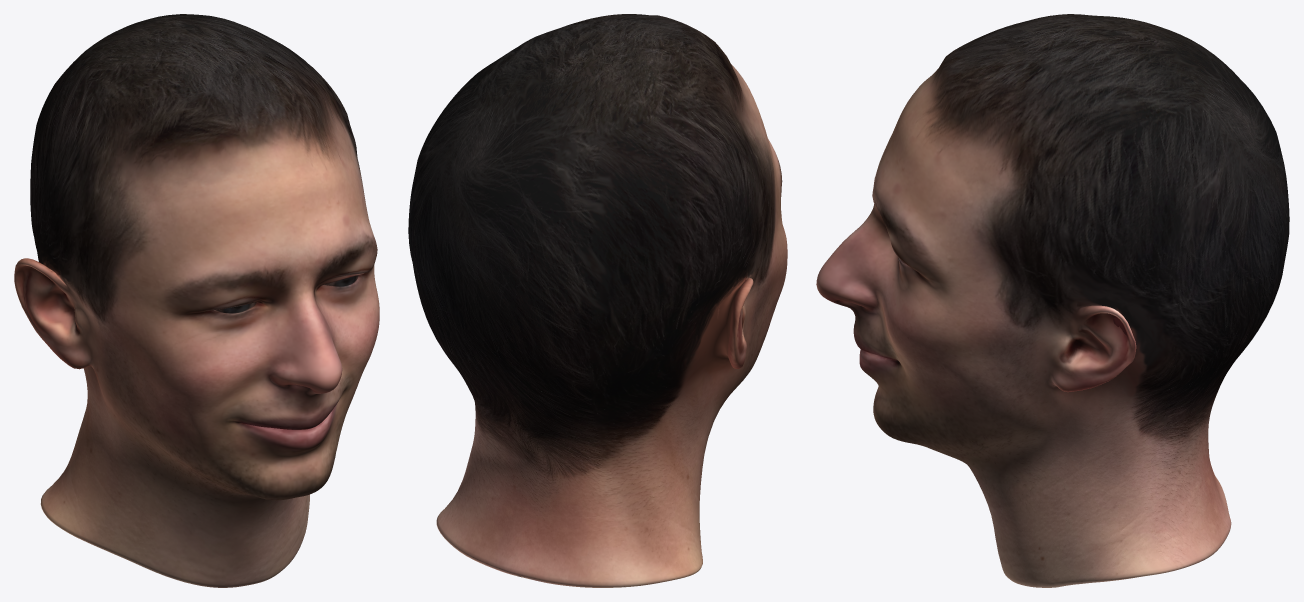
Rendered from myFace.glb.
The picture shows the model from 3 angles, left to right: view 1: azimuth 30°, elevation 25°; view 2: azimuth 150°, elevation 25°; view 3: azimuth 270°, elevation 25°; orthographic projection.
Visible parts, largest first — view 1: FBHead; view 2: FBHead; view 3: FBHead.
Boxes of the visible parts, x1,y1,x2,y2 form: FBHead: [14, 14, 379, 587]; FBHead: [408, 14, 787, 587]; FBHead: [816, 14, 1289, 587].
Bounding box in the file's own units: 1.64 × 2.53 × 2.03.
3 materials, 3 textured.
